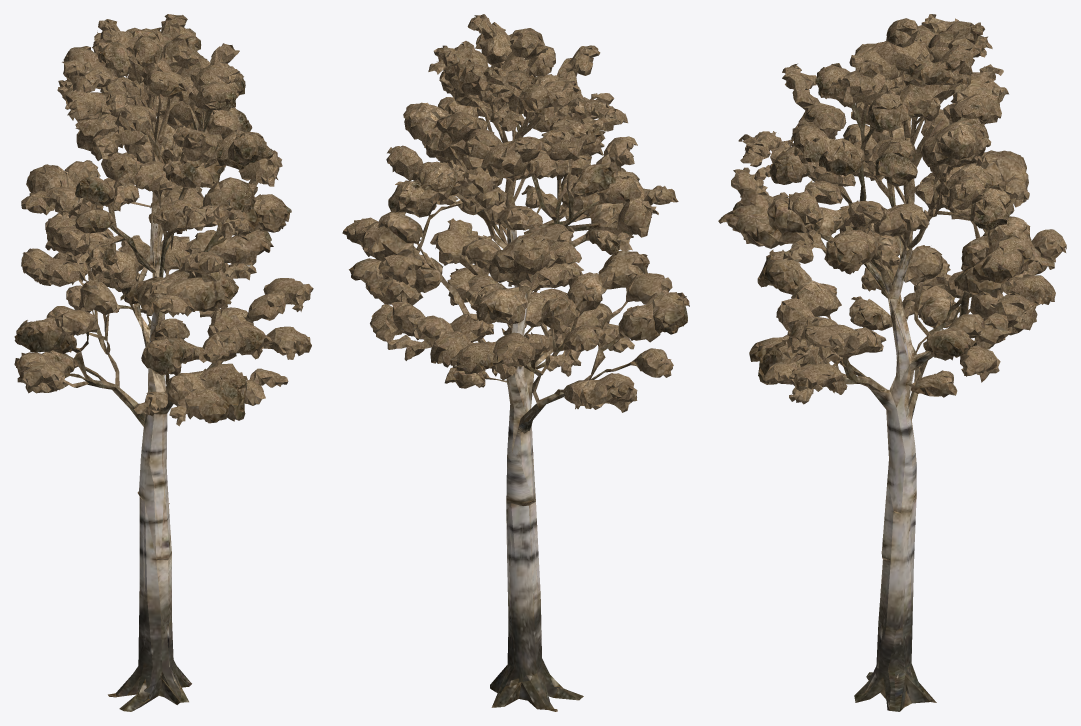
Rendered from tree-birch-dead.glb.
The picture shows the model from 3 angles, left to right: view 1: azimuth 30°, elevation 25°; view 2: azimuth 150°, elevation 25°; view 3: azimuth 270°, elevation 25°; orthographic projection. The views are drawn at different scales.
Visible parts, largest first — view 1: output_unwrapped; view 2: output_unwrapped; view 3: output_unwrapped.
Part boxes in pixels (<box>): output_unwrapped: <box>14,14,313,711</box>; output_unwrapped: <box>342,14,689,711</box>; output_unwrapped: <box>718,14,1066,711</box>.
Size of the model in its own units: 6.96 by 14.99 by 7.01.
1 material, 1 textured.
